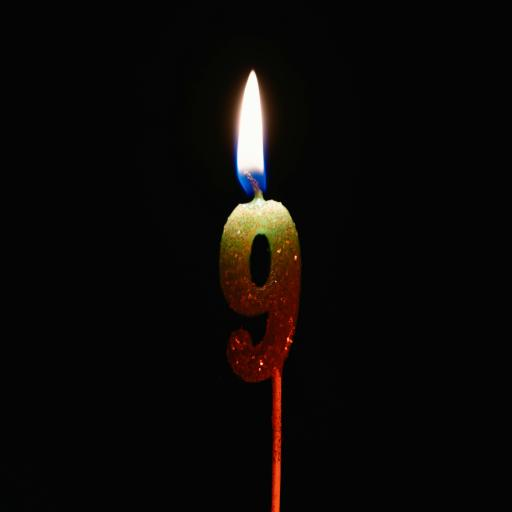candlelight: (207, 43, 315, 382)
